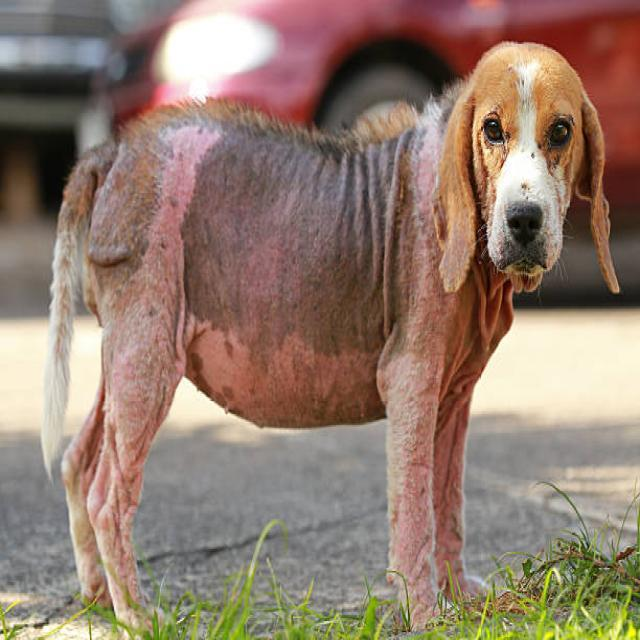mange: (133, 124, 462, 280), (384, 288, 456, 561), (98, 285, 170, 491)
